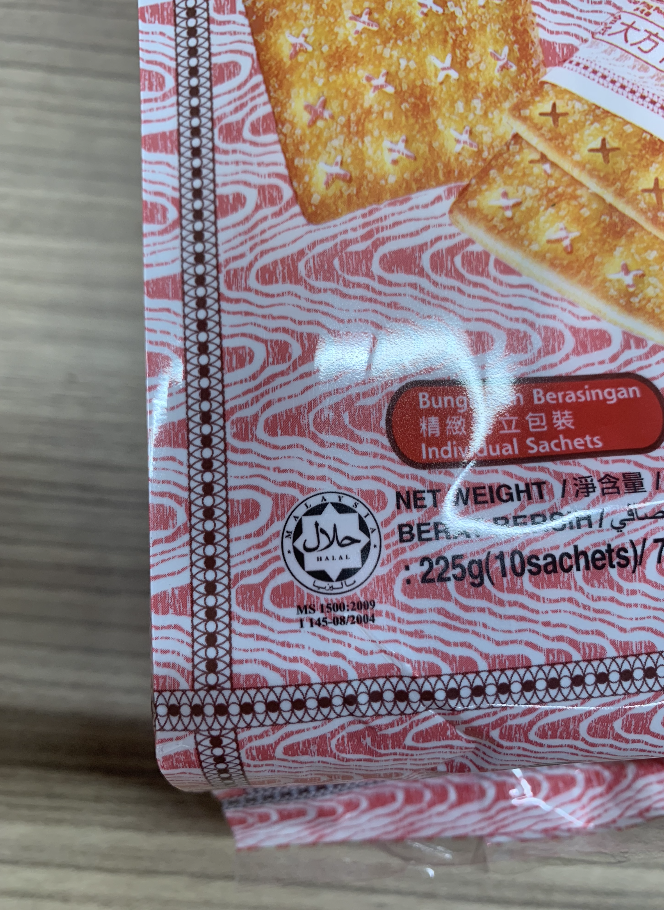halal: (297, 505, 362, 580)
